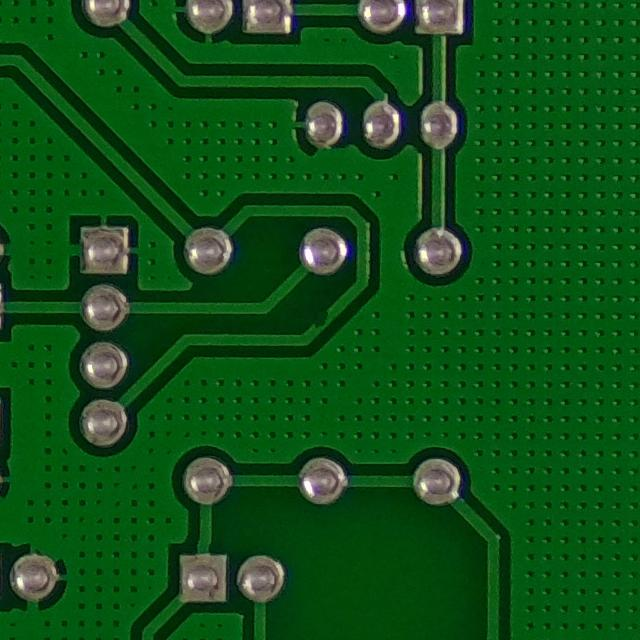mouse_bite: (304, 304, 337, 337)
